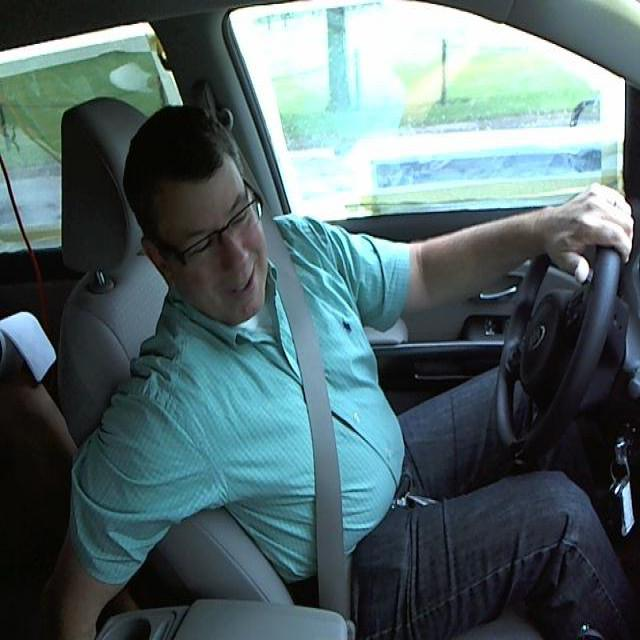seatbelt: (261, 245, 376, 608)
